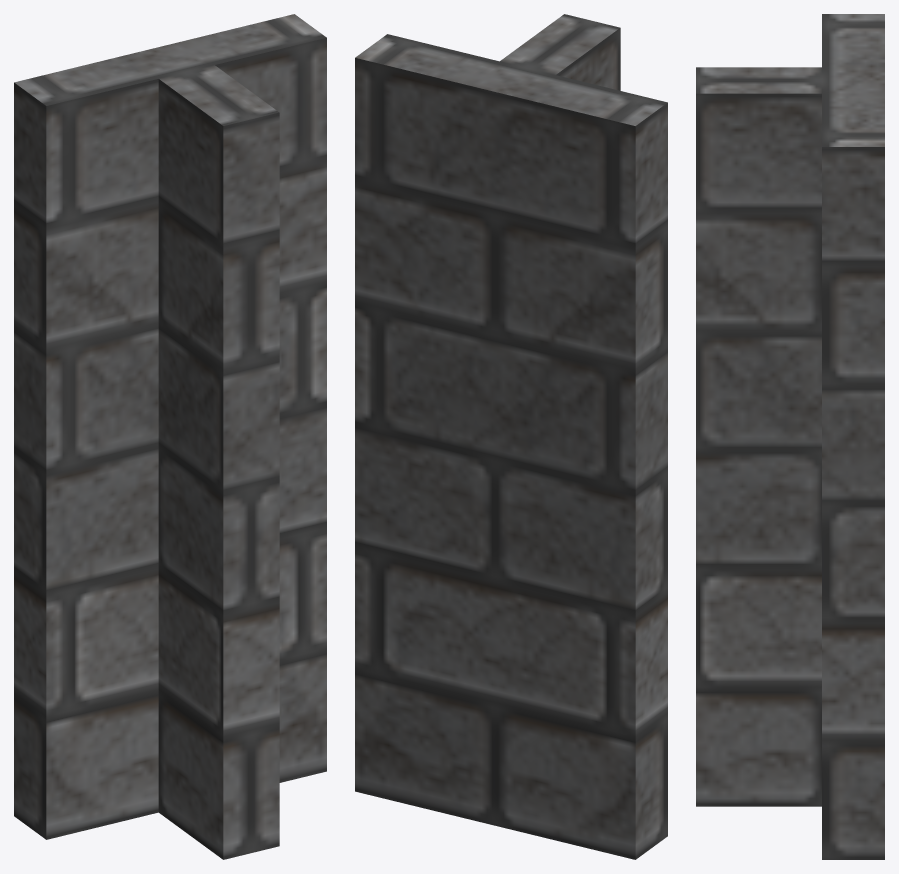
Rendered from corner_wall_div.glb.
3 views of the same model, side by side, from view 1: azimuth 30°, elevation 25°; view 2: azimuth 150°, elevation 25°; view 3: azimuth 270°, elevation 25° (orthographic). The views are drawn at different scales.
Visible parts, largest first — view 1: CornerWallDiv; view 2: CornerWallDiv; view 3: CornerWallDiv.
Part boxes in pixels (x1,y1,x2,y2): CornerWallDiv: [14, 14, 326, 859]; CornerWallDiv: [355, 14, 667, 859]; CornerWallDiv: [696, 14, 884, 859].
Size of the model in its own units: 1 by 2.5 by 0.6.
Materials: 1 (1 with a texture image).
